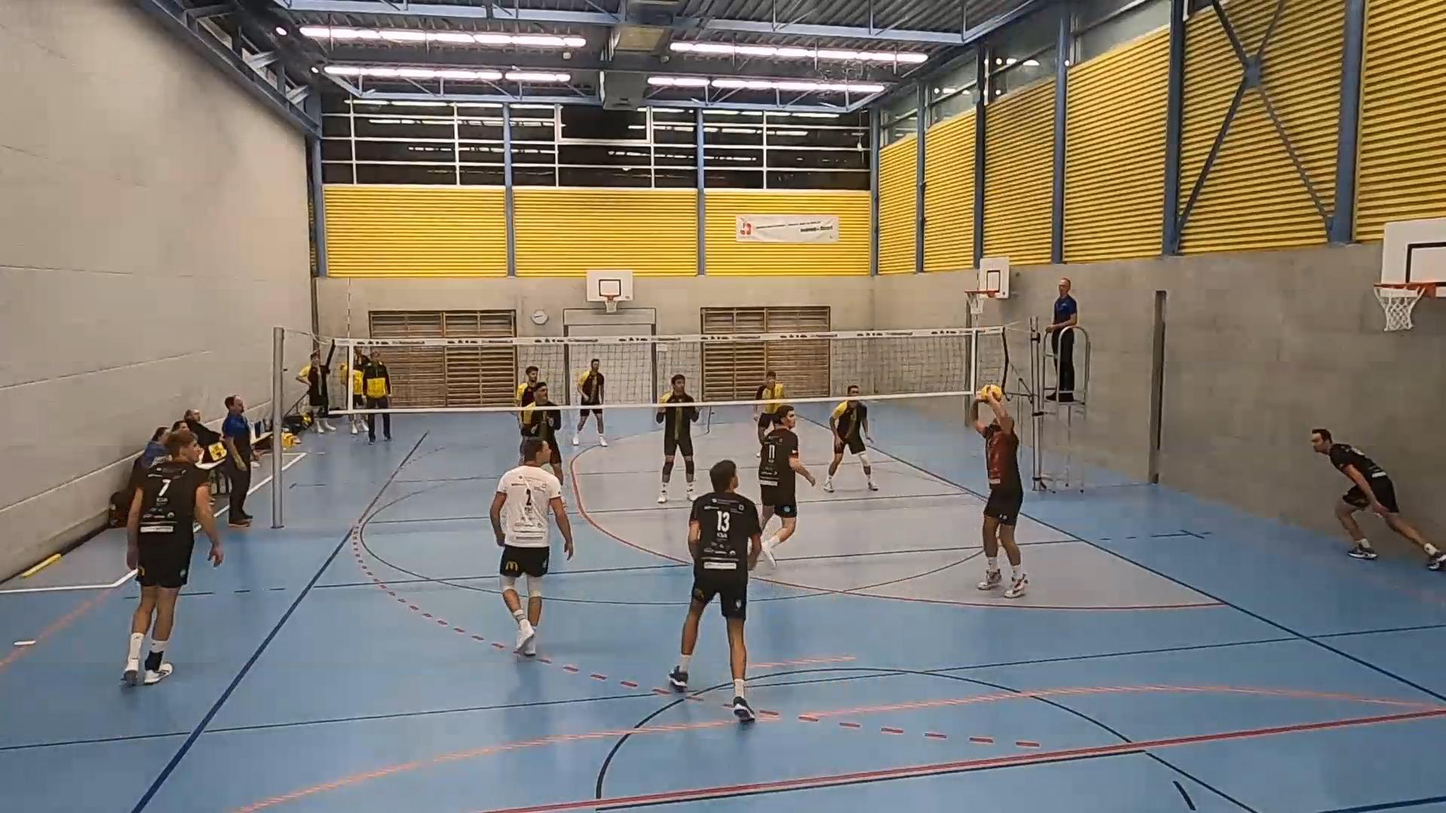Player: (123, 429, 223, 686), (669, 460, 761, 721), (1311, 430, 1445, 570), (490, 437, 573, 655), (758, 405, 816, 565), (823, 385, 877, 492), (655, 374, 698, 503), (521, 382, 563, 481), (572, 359, 607, 446), (754, 370, 785, 443), (514, 366, 538, 408)
Set: (967, 393, 1027, 595)
ball: (975, 387, 1004, 402)
